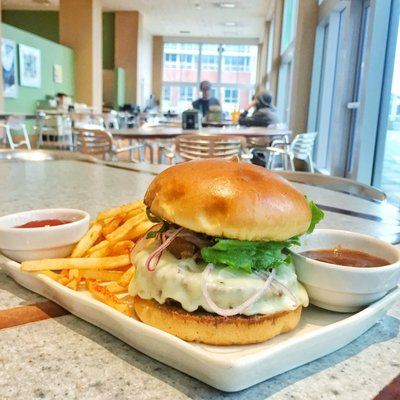soup: (128, 158, 322, 346)
sushi: (288, 228, 400, 314), (0, 208, 91, 263)
